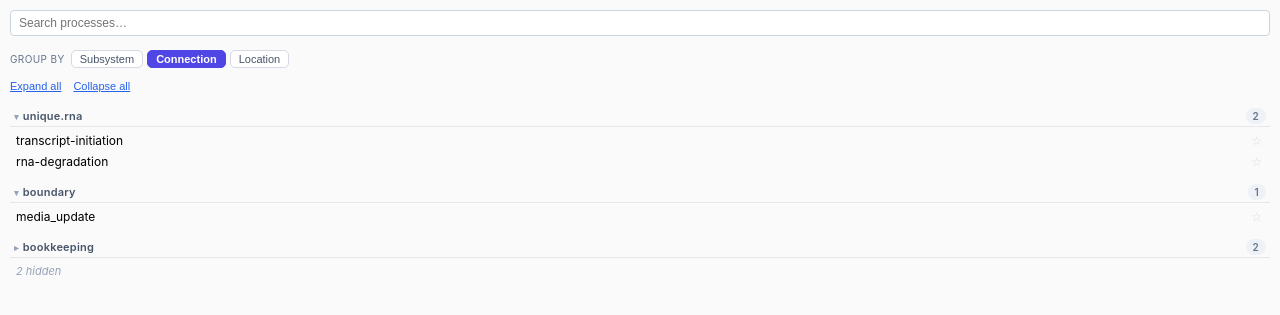
Scenario: ProcessRail › expands the collapsed cluster when its header is clicked
The image size is (1280, 315).
Step 1. Click the text "bookkeeping" → (58, 247), box [23,240,94,254]
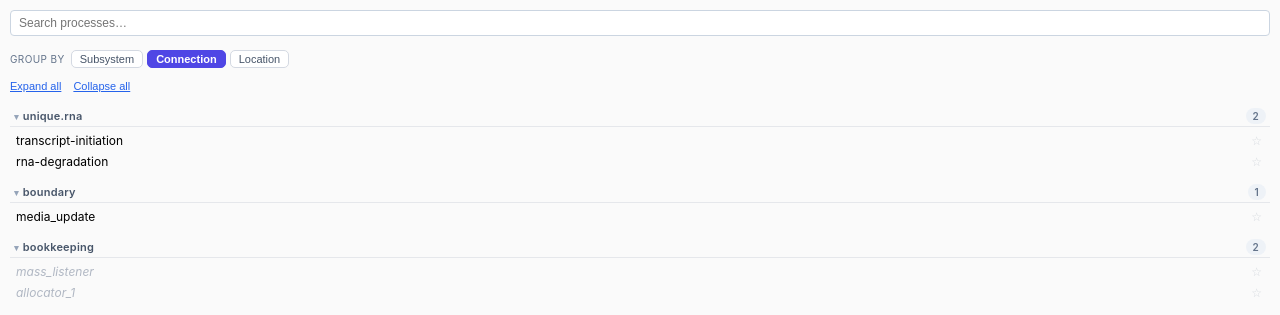
Check: the text "mass_listener" is shown, box [16,264,94,279]
